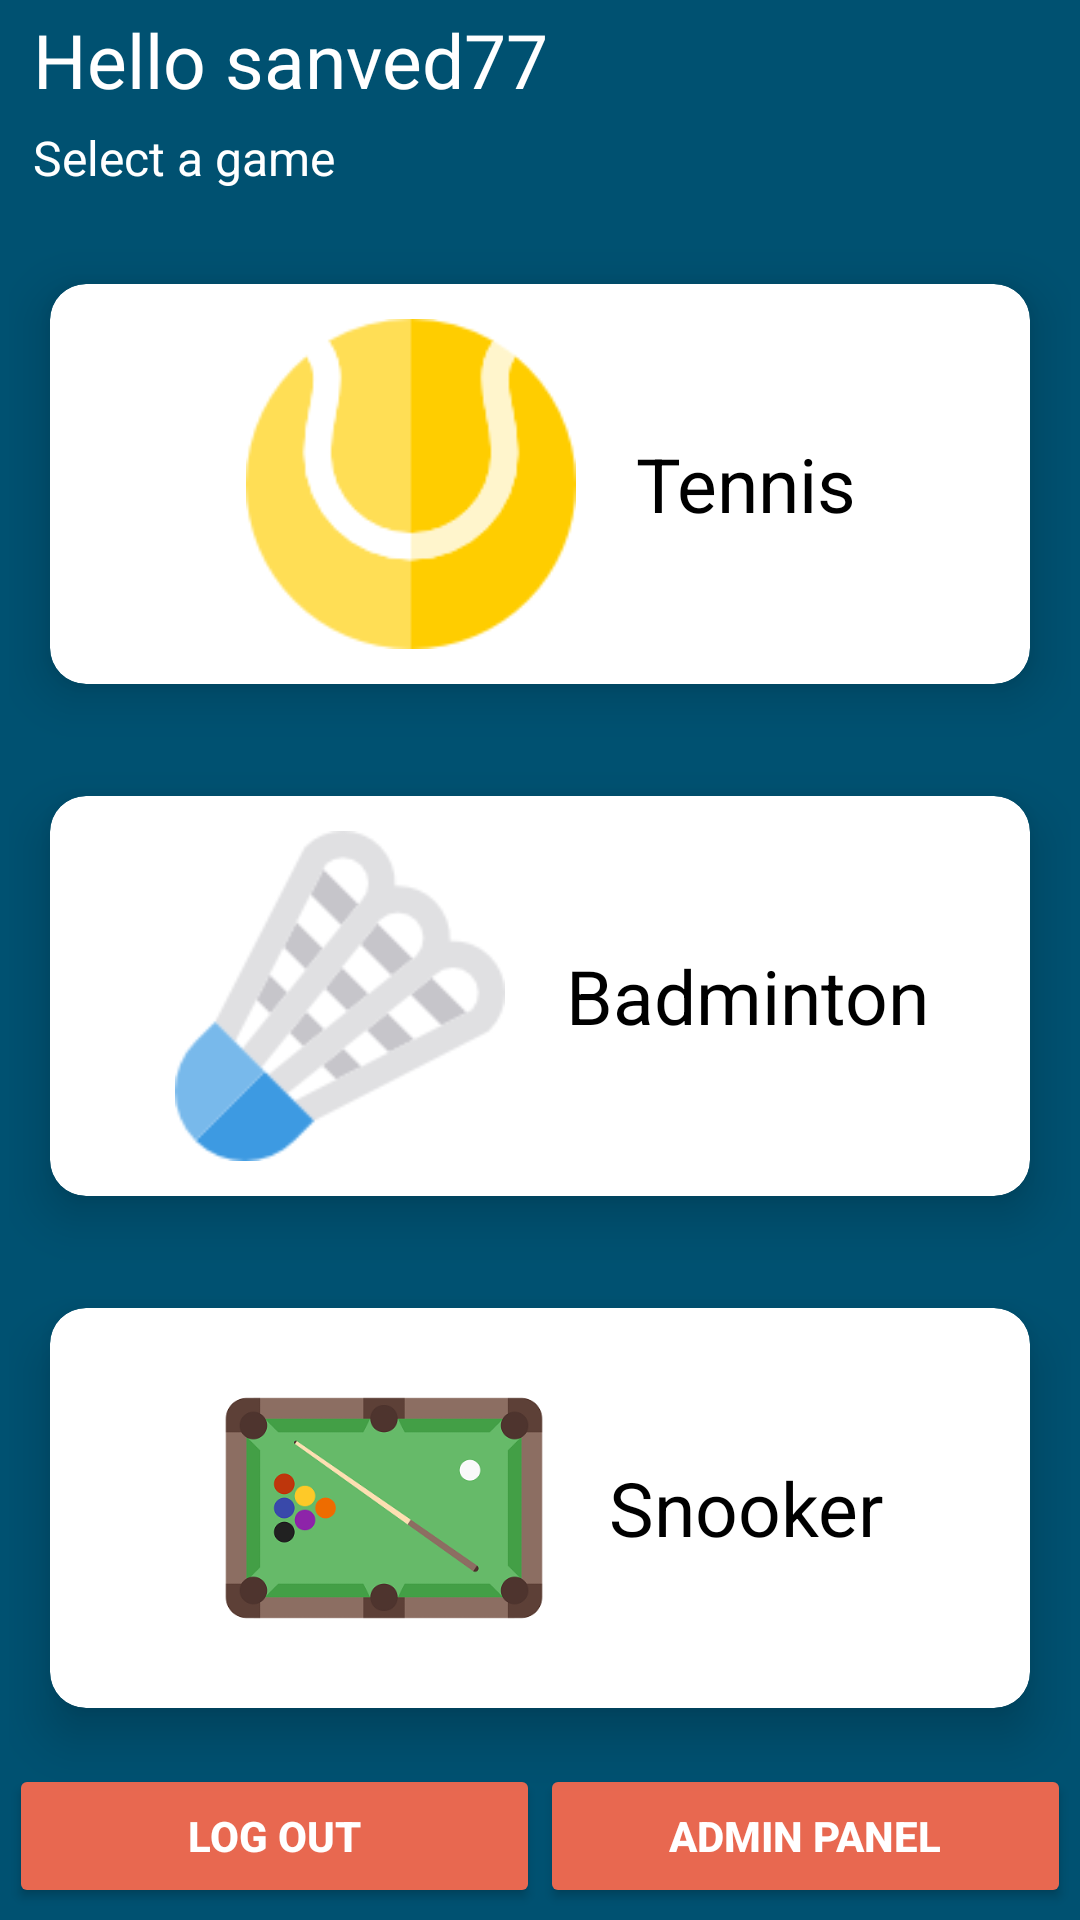

Where icons sit on this 1080w x 1920h app screen, as (x1, y1, x2, y2):
pool: (225, 1397, 543, 1619)
